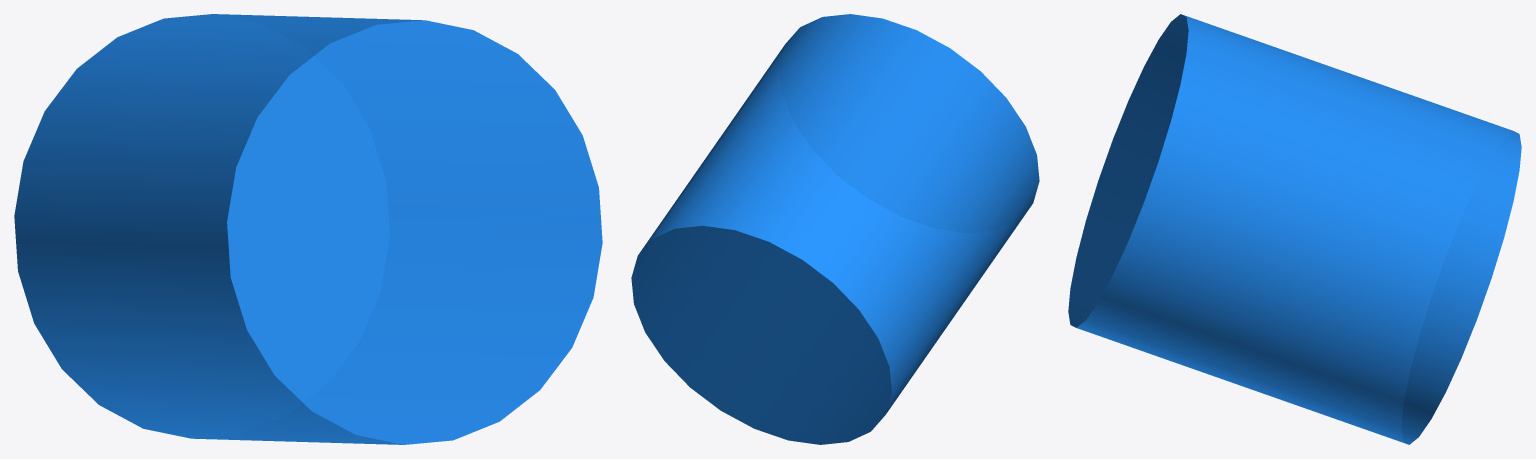
The model's file is Event_134586304_MET.fbx.
The picture shows the model from 3 angles, left to right: view 1: azimuth 30°, elevation 25°; view 2: azimuth 150°, elevation 25°; view 3: azimuth 270°, elevation 25°; orthographic projection. The views are drawn at different scales.
Visible parts, largest first — view 1: Model; view 2: Model; view 3: Model.
Boxes of the visible parts, bbox=[...] form: Model: bbox=[14, 14, 602, 444]; Model: bbox=[631, 14, 1039, 444]; Model: bbox=[1068, 14, 1521, 444].
Size of the model in its own units: 0.04 by 0.0528 by 0.0545.
